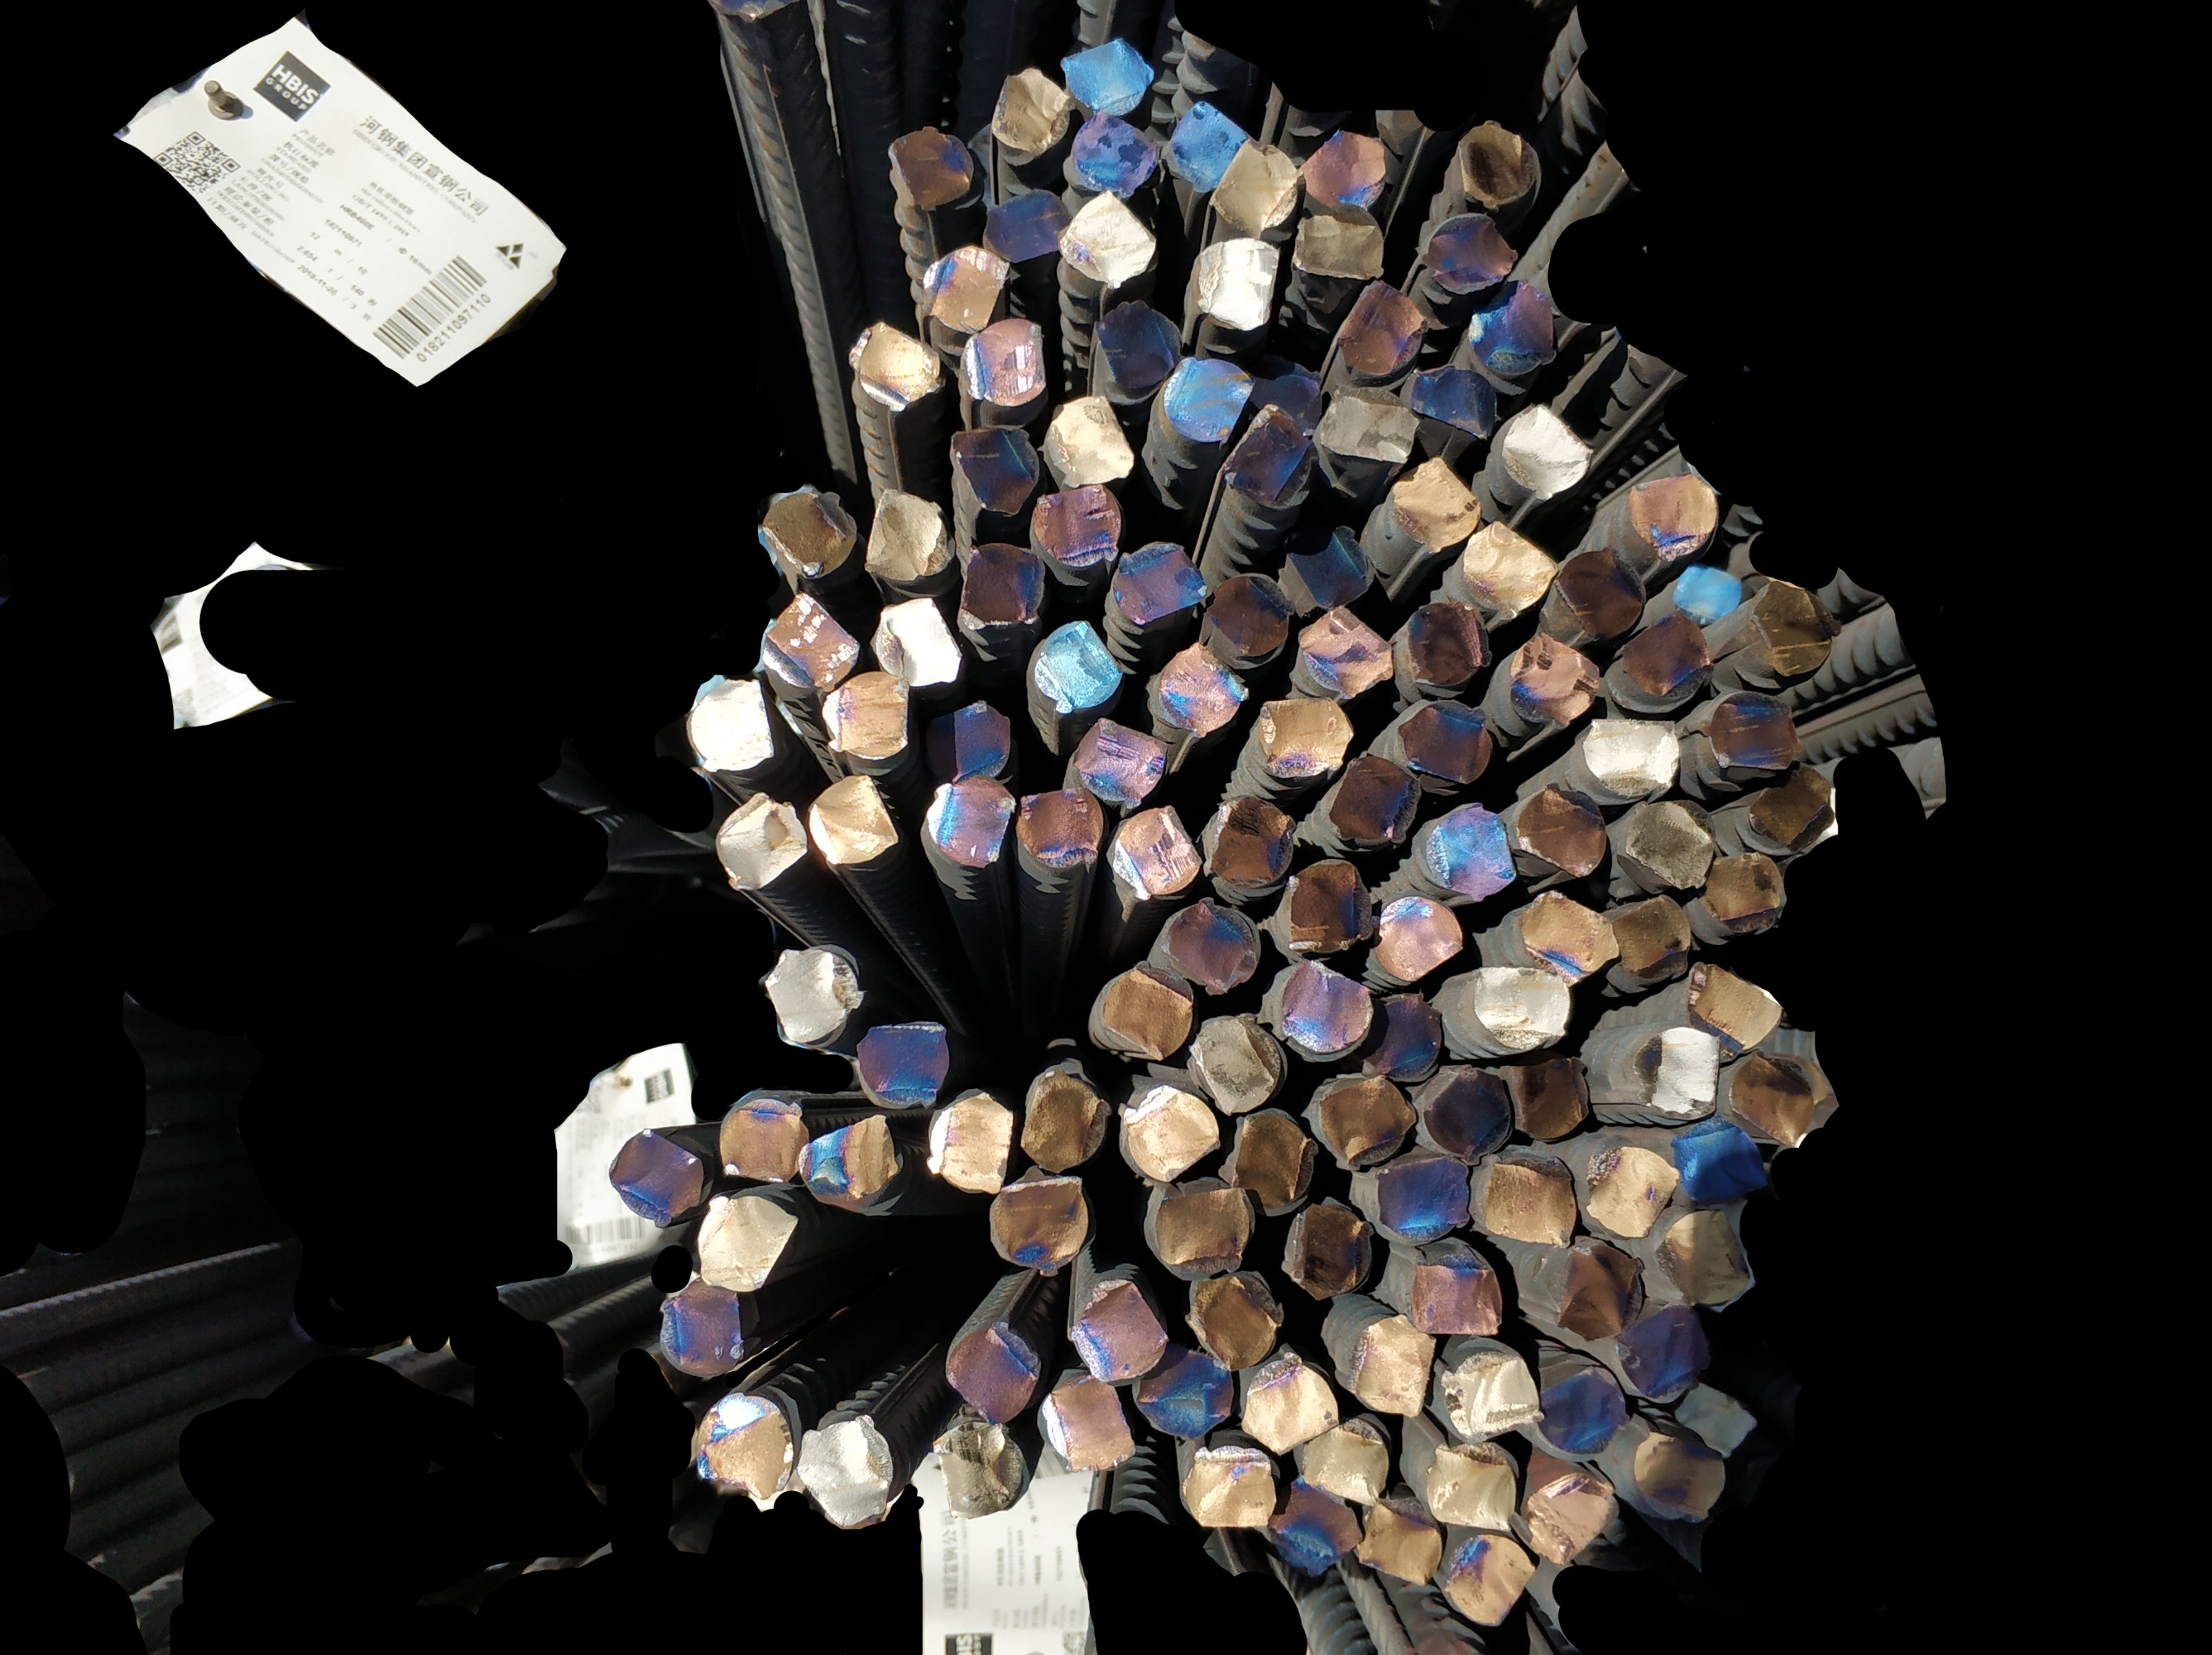rebar: (794, 1415, 902, 1532), (1063, 1276, 1176, 1384), (1032, 1368, 1140, 1476), (940, 1319, 1046, 1429), (693, 1389, 798, 1500), (1119, 1080, 1223, 1189), (1182, 1269, 1284, 1375), (1461, 518, 1564, 624), (931, 1417, 1032, 1523), (985, 1173, 1095, 1271), (697, 1189, 799, 1292), (796, 1113, 905, 1208), (924, 1087, 1018, 1198), (1343, 1309, 1437, 1420), (1058, 186, 1159, 289), (763, 944, 864, 1047), (1295, 603, 1399, 702), (1265, 1474, 1362, 1580), (716, 784, 808, 895), (1020, 1066, 1112, 1177), (1149, 1180, 1253, 1278), (1222, 403, 1317, 509), (685, 669, 780, 775), (1109, 798, 1204, 904), (1437, 1349, 1543, 1445), (1223, 1111, 1317, 1219), (1314, 1071, 1413, 1172), (608, 1125, 707, 1226), (1241, 1356, 1340, 1457), (1520, 1469, 1621, 1568), (712, 1088, 815, 1186), (1519, 888, 1621, 986), (1209, 136, 1305, 240), (1192, 1014, 1288, 1118), (1133, 1347, 1237, 1443), (844, 316, 945, 414), (805, 772, 902, 873), (1658, 1208, 1755, 1309), (1498, 400, 1593, 502), (916, 242, 1020, 336), (759, 588, 853, 692), (1199, 789, 1291, 895), (1069, 715, 1168, 812), (1277, 958, 1376, 1055), (1109, 534, 1209, 629), (1423, 800, 1517, 902), (1750, 577, 1844, 680), (1284, 855, 1374, 961), (1154, 638, 1251, 735), (1442, 1532, 1538, 1631), (1029, 614, 1123, 715), (818, 664, 912, 765), (1329, 753, 1423, 854), (1468, 276, 1562, 377), (1336, 276, 1428, 379), (659, 1278, 751, 1380), (1534, 1356, 1630, 1453), (1162, 897, 1258, 993), (1616, 1302, 1713, 1396), (1515, 782, 1609, 880), (1096, 297, 1185, 400), (1044, 393, 1140, 487), (862, 487, 956, 582), (759, 489, 857, 581), (1557, 1245, 1649, 1342), (1630, 1024, 1722, 1121), (1684, 958, 1781, 1050), (1394, 457, 1484, 556), (1458, 115, 1546, 216), (1468, 965, 1573, 1050), (1065, 108, 1159, 202), (923, 695, 1017, 789), (1380, 1154, 1474, 1248), (1404, 596, 1496, 692), (1206, 568, 1298, 664), (1182, 1443, 1277, 1535), (1484, 1156, 1580, 1248), (1623, 798, 1719, 890), (1510, 629, 1602, 725), (1555, 542, 1647, 638), (853, 1020, 952, 1109), (1428, 1441, 1520, 1535), (1633, 1429, 1727, 1521), (1586, 1146, 1679, 1240), (1296, 125, 1392, 216), (1032, 483, 1128, 574), (1100, 961, 1190, 1057), (1672, 1118, 1767, 1208), (1168, 96, 1255, 195), (1421, 209, 1520, 296), (1395, 699, 1494, 786), (1197, 235, 1282, 336), (1731, 1047, 1816, 1147), (1291, 200, 1394, 283), (1298, 1415, 1390, 1507), (1621, 612, 1715, 702), (1289, 1200, 1374, 1299), (1161, 355, 1253, 445), (949, 422, 1039, 515), (1626, 469, 1720, 558), (1583, 715, 1682, 798), (1407, 1255, 1508, 1337), (923, 779, 1013, 869), (871, 600, 963, 688), (1371, 894, 1463, 982), (1317, 382, 1414, 466), (1286, 520, 1374, 610), (1262, 692, 1352, 781), (1354, 1499, 1444, 1587), (963, 316, 1048, 410), (1708, 690, 1802, 775), (1427, 1067, 1513, 1158), (1508, 1050, 1593, 1142), (1060, 37, 1156, 118), (888, 123, 975, 212), (1020, 786, 1109, 871), (1750, 763, 1835, 850), (1359, 993, 1442, 1081), (994, 66, 1076, 156), (961, 542, 1048, 626), (1609, 894, 1698, 975), (982, 186, 1070, 266), (1411, 362, 1501, 440), (1672, 1379, 1753, 1462), (1703, 850, 1785, 930), (1246, 369, 1324, 442), (1672, 558, 1745, 622)
